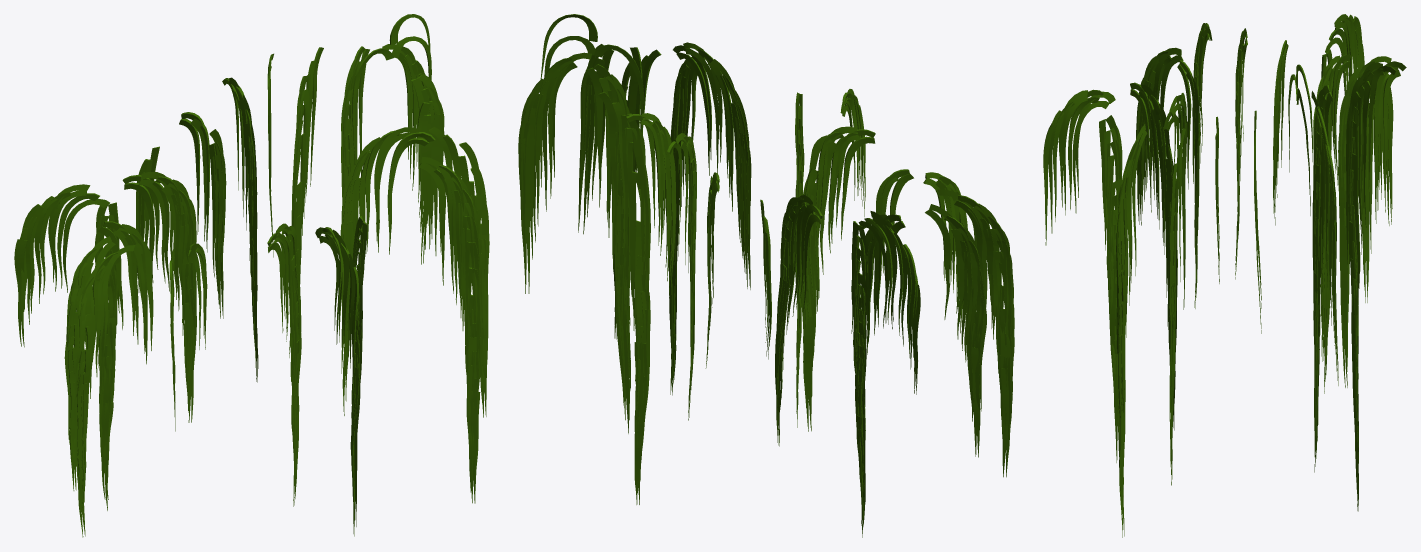
File: Decoracion_Planta (1).fbx
The picture shows the model from 3 angles, left to right: view 1: azimuth 30°, elevation 25°; view 2: azimuth 150°, elevation 25°; view 3: azimuth 270°, elevation 25°; orthographic projection. The views are drawn at different scales.
Visible parts, largest first — view 1: slimeWeed4Leaf1; view 2: slimeWeed4Leaf1; view 3: slimeWeed4Leaf1.
Boxes of the visible parts, x1,y1,x2,y2 form: slimeWeed4Leaf1: (14, 14, 489, 537); slimeWeed4Leaf1: (518, 14, 1014, 537); slimeWeed4Leaf1: (1043, 14, 1406, 537).
Size of the model in its own units: 6.81 by 6.8 by 4.56.
